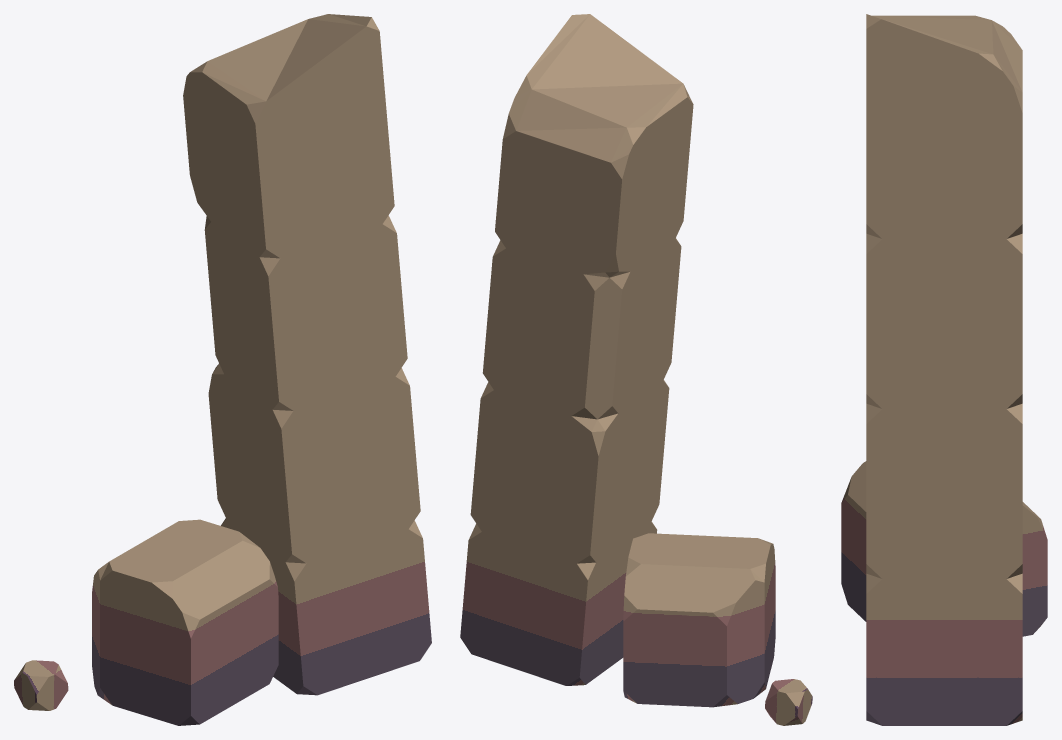
The model's file is Fallen Pillar 1.002.fbx.
3 renders of one model, left to right at view 1: azimuth 30°, elevation 25°; view 2: azimuth 150°, elevation 25°; view 3: azimuth 270°, elevation 25°, orthographic. The views are drawn at different scales.
Visible parts, largest first — view 1: Fallen Pillar 1.002; view 2: Fallen Pillar 1.002; view 3: Fallen Pillar 1.002.
Part boxes in pixels (box(x1,y1,x2,y2)): Fallen Pillar 1.002: box(14, 14, 431, 725); Fallen Pillar 1.002: box(460, 14, 812, 725); Fallen Pillar 1.002: box(841, 14, 1047, 725).
Bounding box in the file's own units: 237 × 422 × 114.
